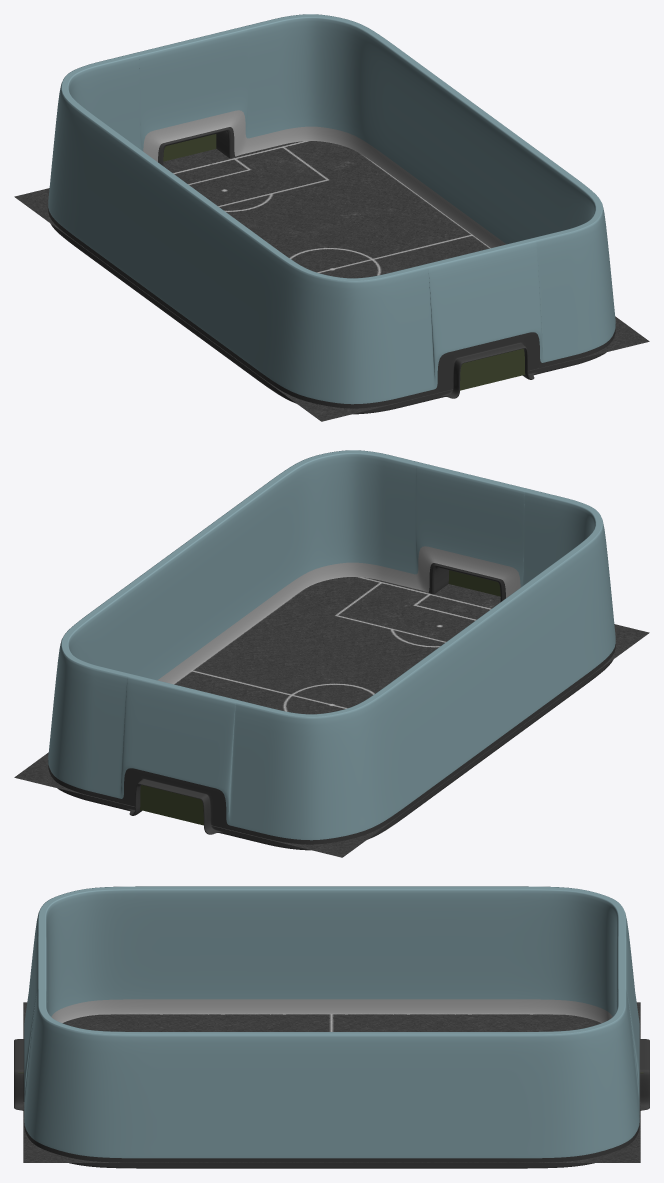
The model's file is saha04.fbx.
3 views of the same model, one above another, from view 1: azimuth 30°, elevation 25°; view 2: azimuth 150°, elevation 25°; view 3: azimuth 270°, elevation 25° (orthographic).
Parts seen in each view (by area): view 1: kenr_srf34, pPlane14, pCube2, pCube1; view 2: kenr_srf34, pPlane14, pCube1, pCube2; view 3: kenr_srf34, pPlane14.
Boxes of the visible parts, x1=… form: kenr_srf34: x1=48, y1=14, x2=615, y2=414; pPlane14: x1=14, y1=141, x2=649, y2=421; pCube2: x1=460, y1=348, x2=525, y2=390; pCube1: x1=163, y1=134, x2=216, y2=161; kenr_srf34: x1=48, y1=450, x2=615, y2=850; pPlane14: x1=14, y1=577, x2=649, y2=857; pCube1: x1=140, y1=785, x2=203, y2=825; pCube2: x1=448, y1=570, x2=500, y2=596; kenr_srf34: x1=14, y1=886, x2=649, y2=1168; pPlane14: x1=23, y1=1002, x2=640, y2=1162.
Size of the model in its own units: 35491 by 13149 by 59299.
